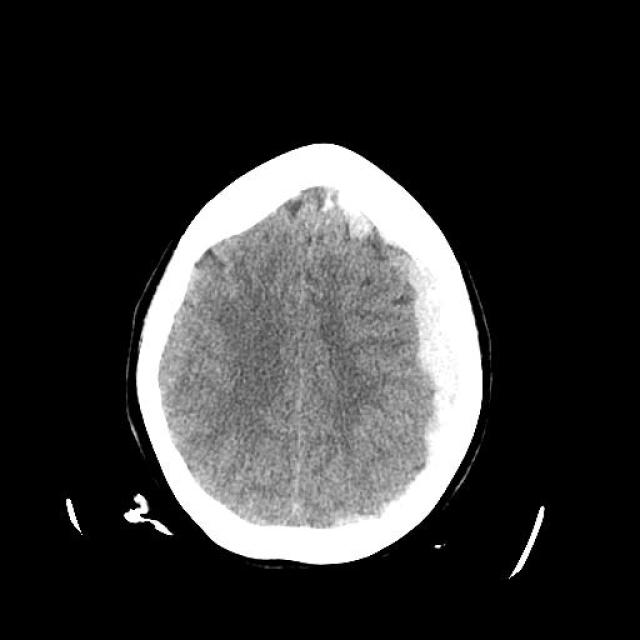Subdural: (397, 238, 502, 542)
